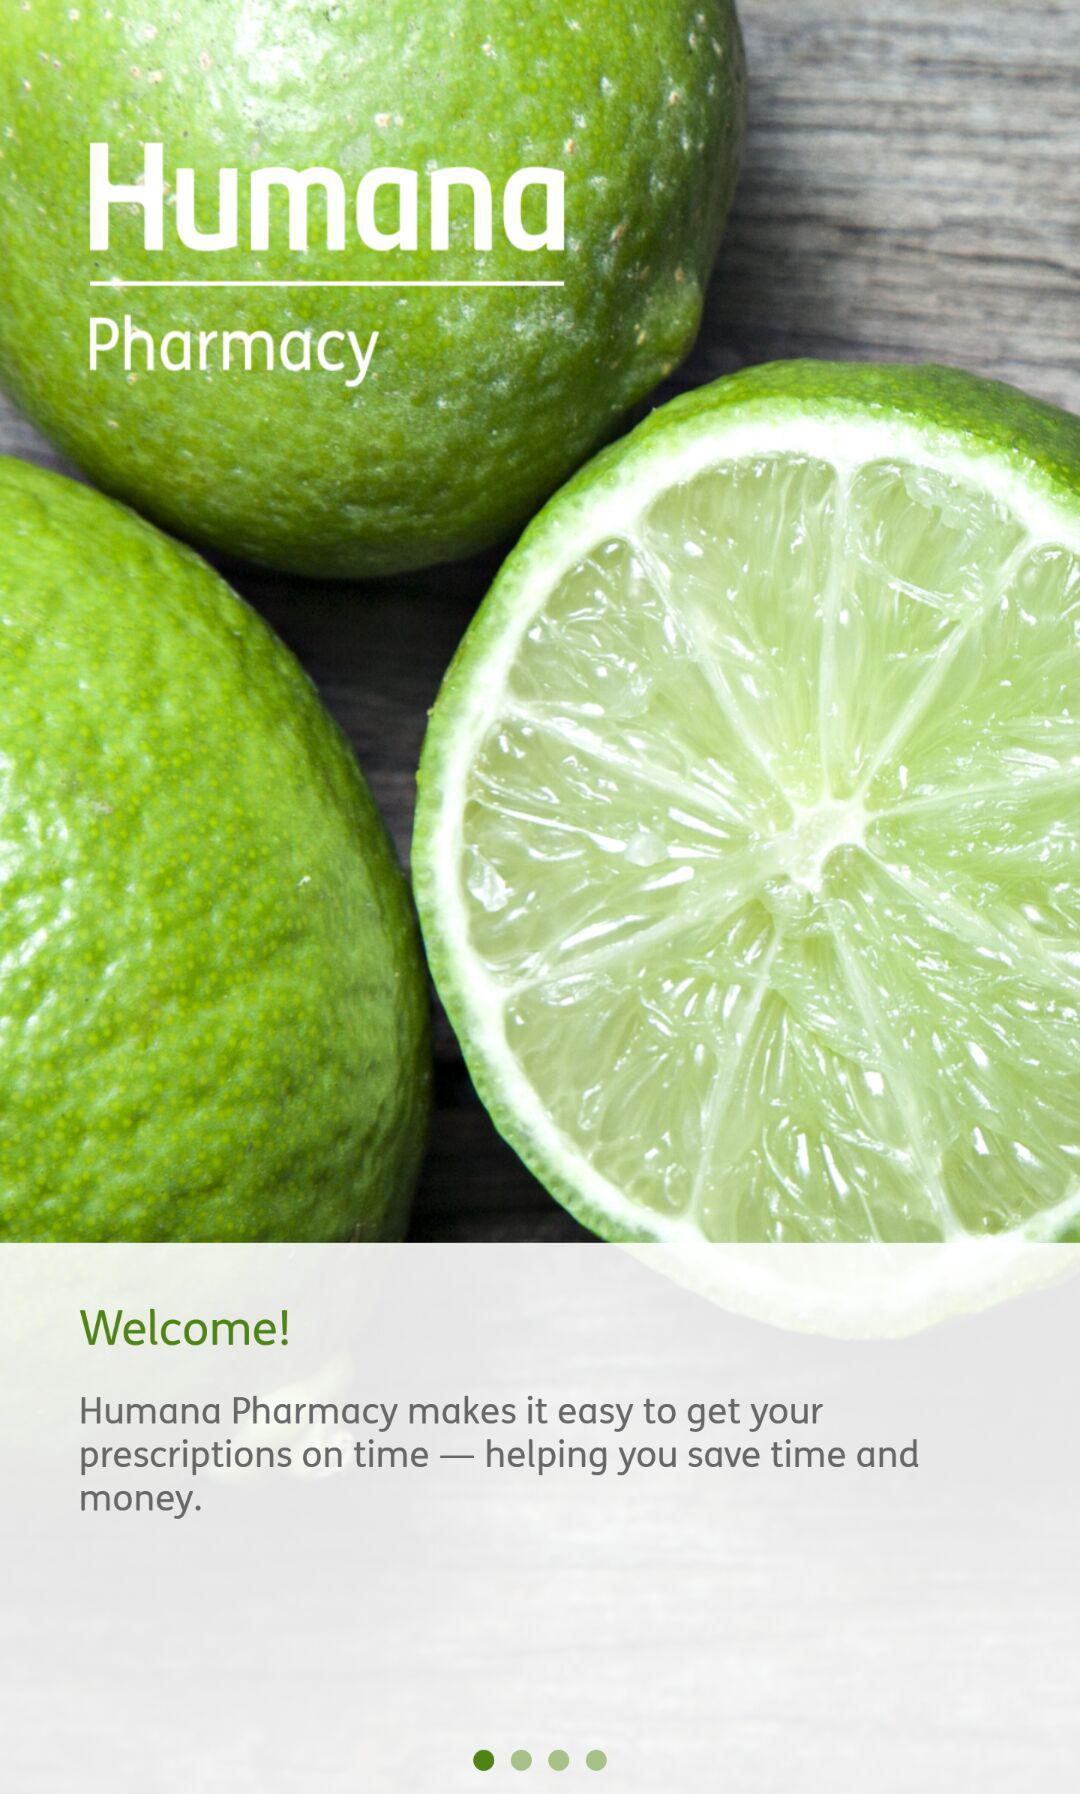Image: (1, 1, 1080, 1244)
PageIndicator: (471, 1748, 609, 1773)
Text: (81, 1395, 919, 1520), (90, 142, 566, 254), (90, 314, 380, 390), (79, 1308, 290, 1347)
